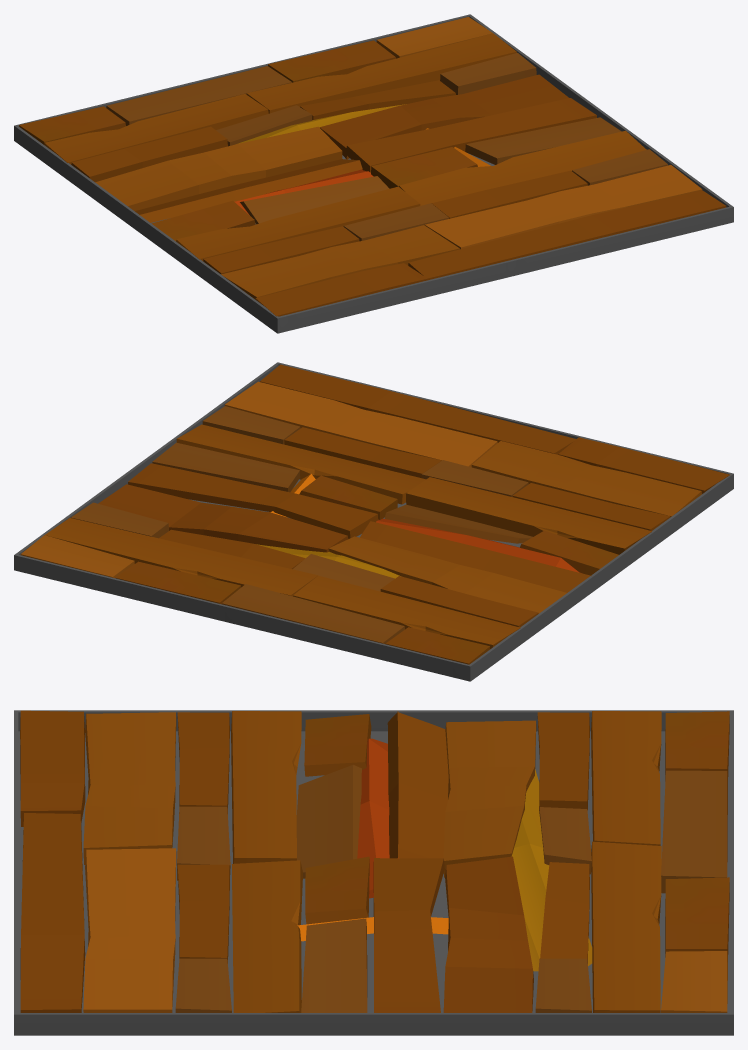
The model's file is Wood Planks Broken_4x4M.glb.
3 views of the same model, one above another, from view 1: azimuth 30°, elevation 25°; view 2: azimuth 150°, elevation 25°; view 3: azimuth 270°, elevation 25° (orthographic). The views are drawn at different scales.
Parts seen in each view (by area): view 1: FloorSolidBroken_4x4; view 2: FloorSolidBroken_4x4; view 3: FloorSolidBroken_4x4.
Boxes of the visible parts, x1,y1,x2,y2 form: FloorSolidBroken_4x4: [14, 14, 733, 333]; FloorSolidBroken_4x4: [14, 362, 733, 681]; FloorSolidBroken_4x4: [14, 710, 733, 1035].
Size of what is drawn, in the model's own units: 4 by 0.1785 by 4.
1 material, 1 textured.
